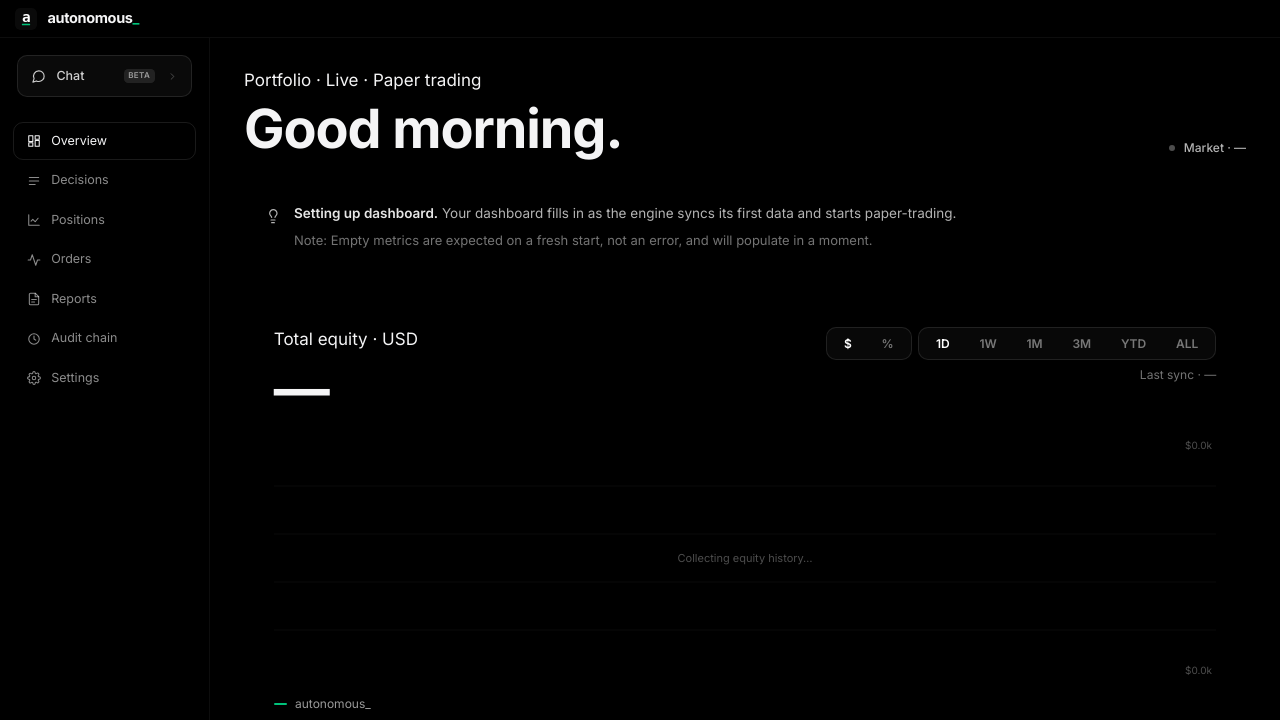
Test: console shell › sidebar nav switches to the live Reports (Specialist reports) page
Click the button "Reports": (105, 299) [13,280,196,318]
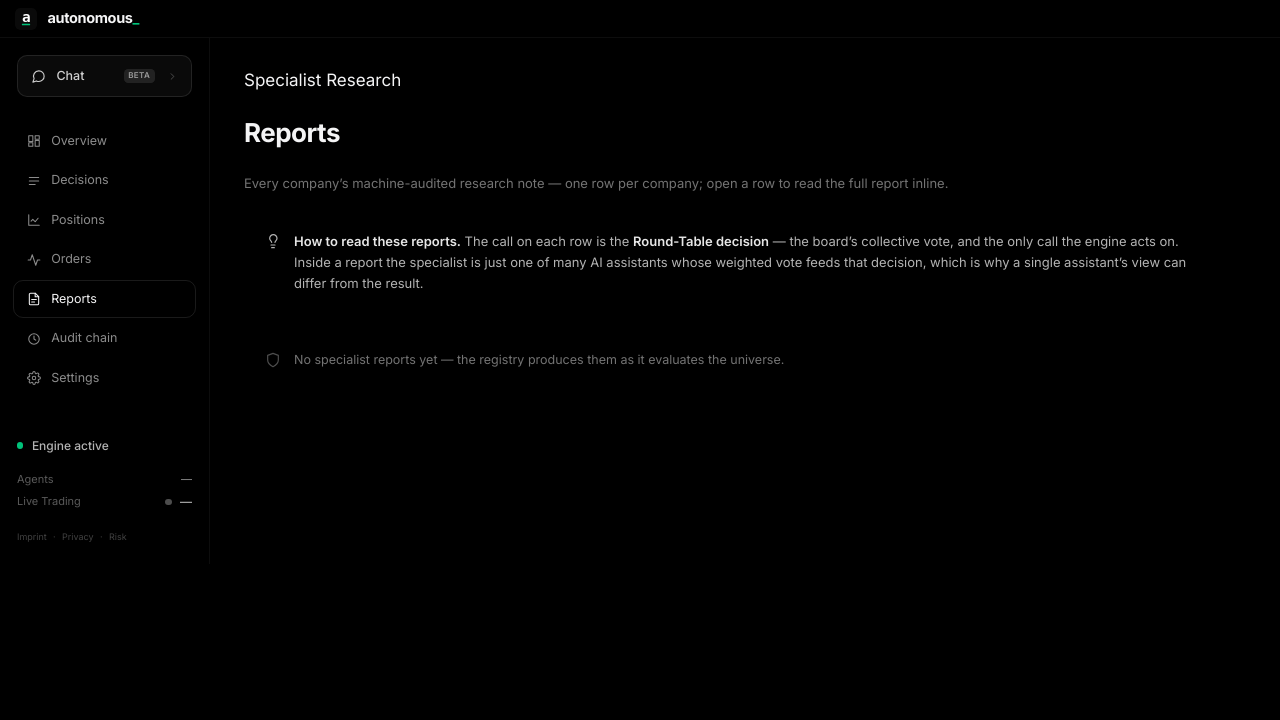
Expected: the text "Specialist Research" is shown, [244,70,401,90]
